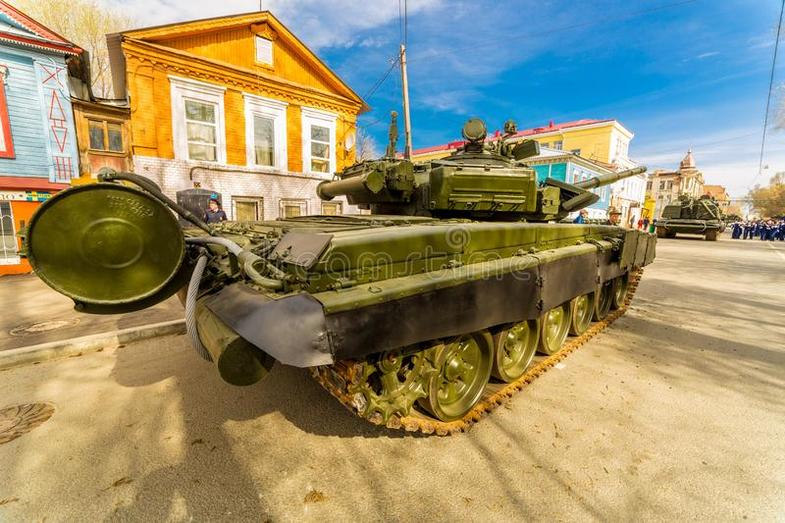t72: (214, 144, 658, 416)
